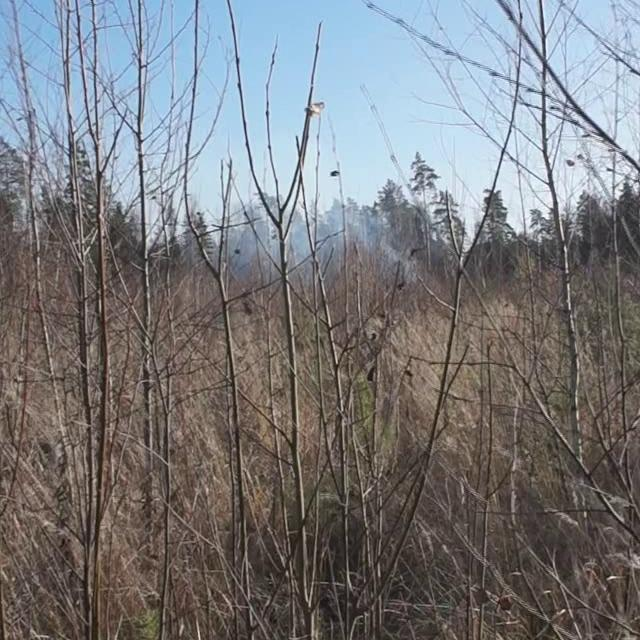Smoke: (207, 185, 429, 288)
